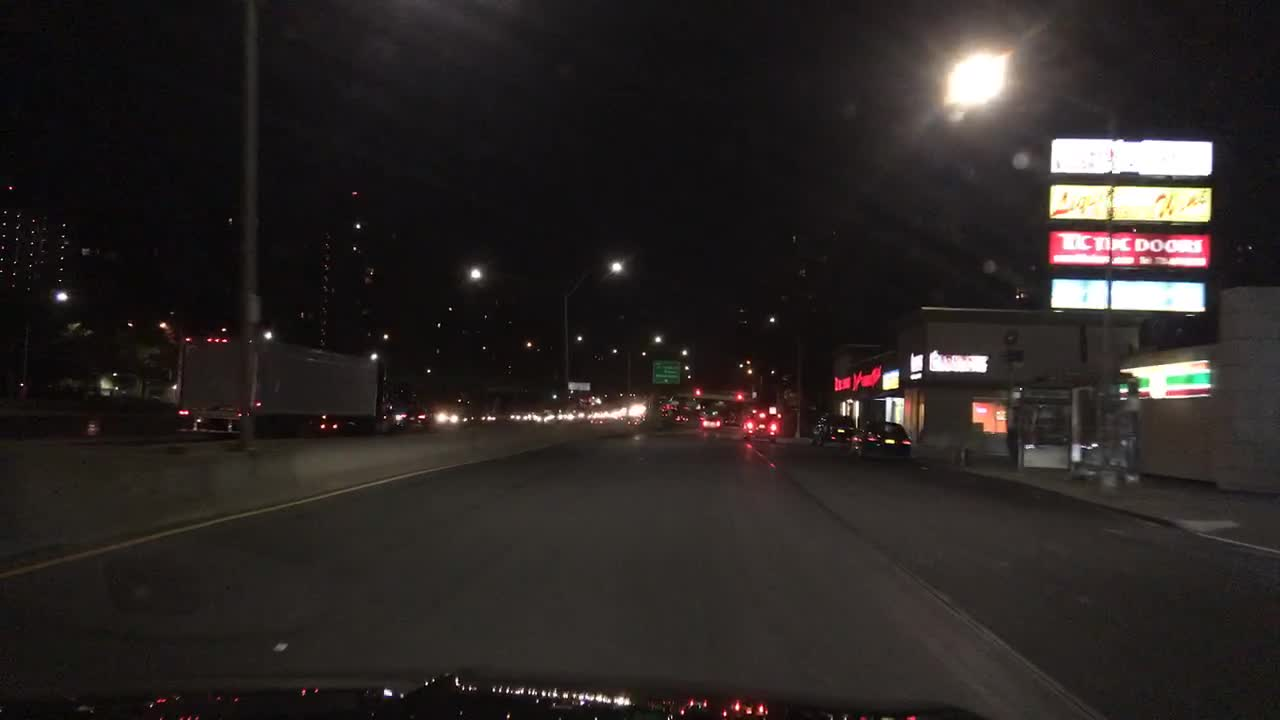car: (82, 388, 200, 443), (847, 419, 911, 463), (740, 410, 779, 441), (386, 402, 435, 426), (810, 412, 849, 440), (433, 404, 458, 424), (700, 413, 724, 428), (535, 406, 555, 421), (458, 408, 474, 424), (628, 412, 644, 425), (673, 407, 689, 420), (479, 410, 495, 422), (589, 412, 603, 424), (556, 409, 572, 419), (507, 411, 523, 420), (657, 407, 670, 418), (523, 412, 536, 421), (612, 413, 625, 420), (576, 409, 584, 417)
traffic light: (694, 386, 702, 396), (734, 390, 741, 400)
traffic sign: (651, 359, 679, 382), (566, 381, 589, 389), (1070, 443, 1080, 461), (749, 390, 757, 399)
truck: (184, 337, 381, 422)
